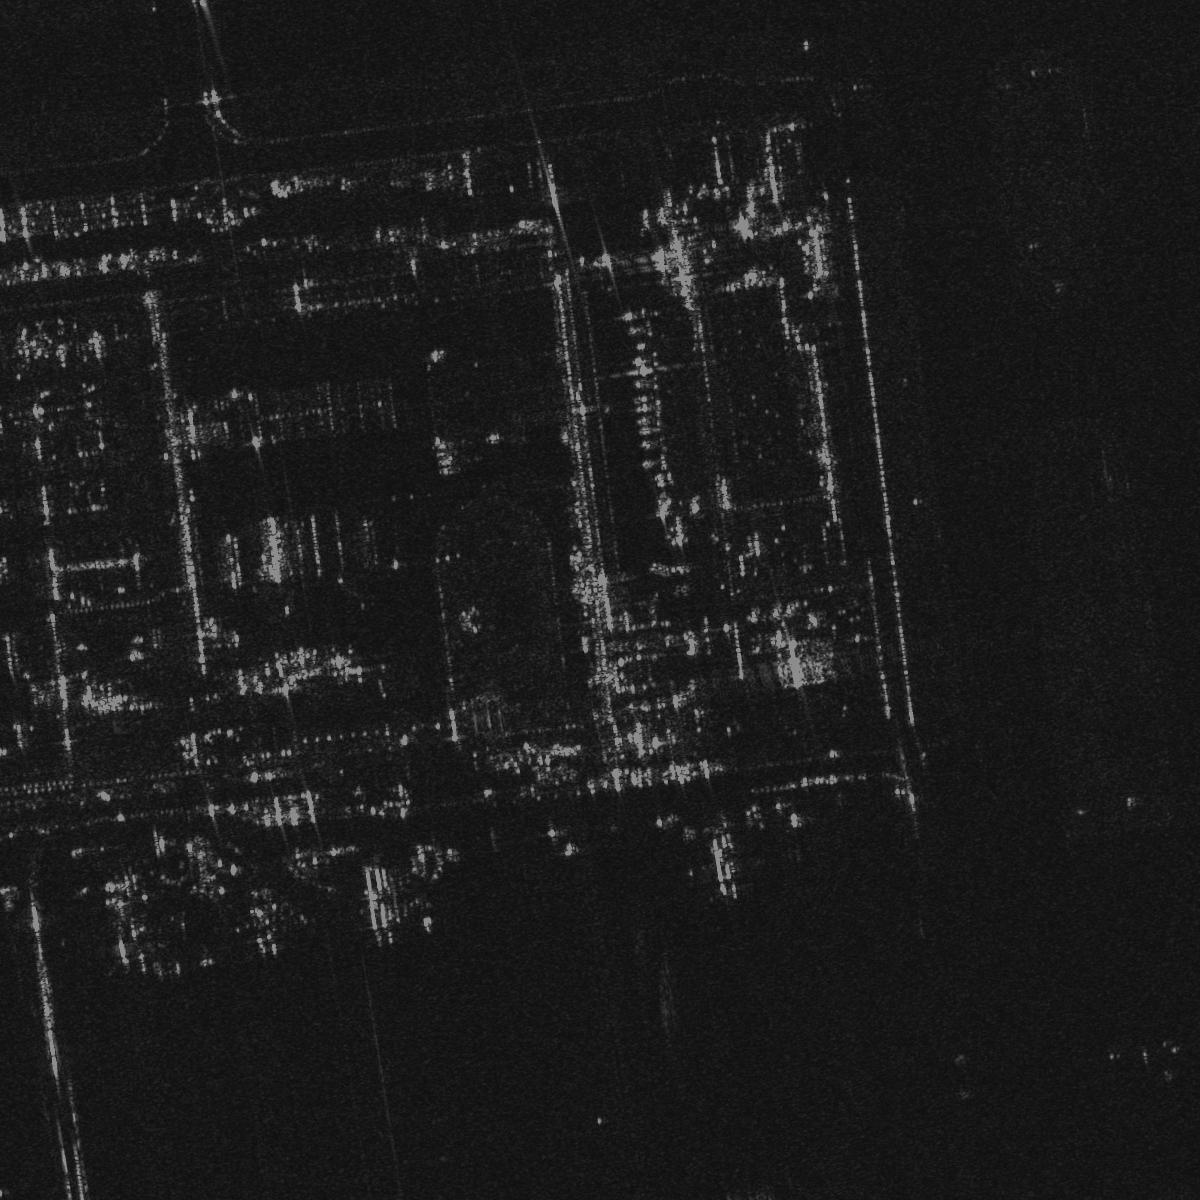Boeing737: (688, 826, 764, 901)
Boeing787: (231, 882, 305, 958), (159, 833, 236, 904)
